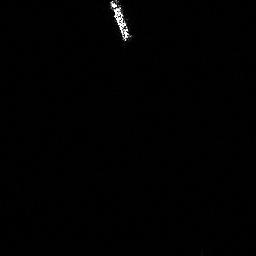ship: (107, 1, 136, 44)
